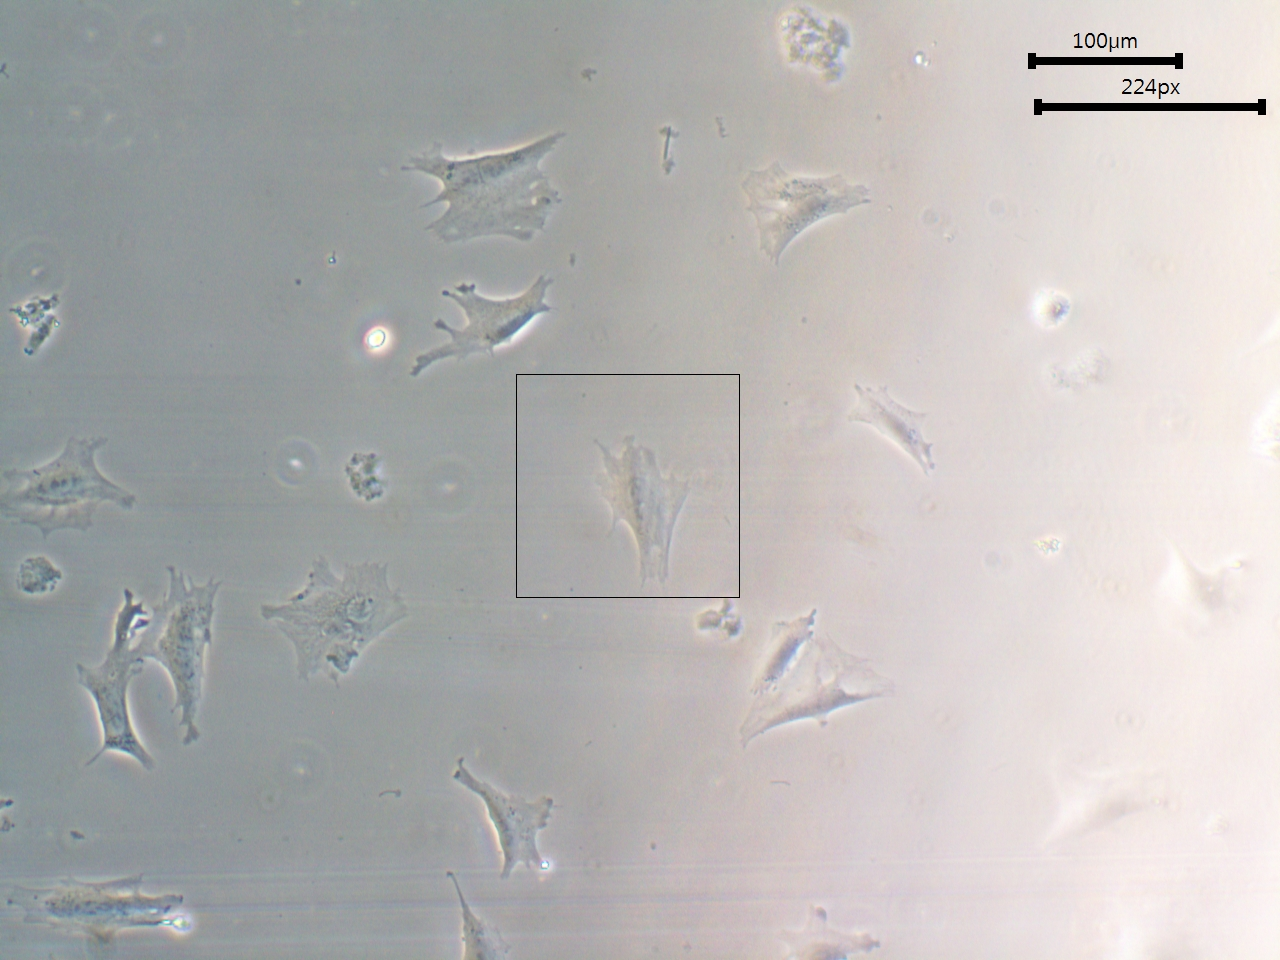dividing: (264, 555, 414, 690), (398, 129, 574, 242)
medium-polygonal: (72, 584, 156, 776), (139, 571, 218, 754), (447, 750, 557, 881), (419, 272, 561, 373)
medium-spread: (1, 429, 141, 557)
